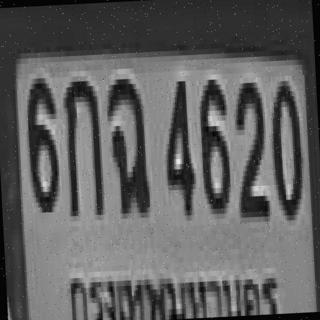A01: (62, 73, 103, 214)
A09: (105, 70, 148, 212)
N00: (268, 73, 302, 214)
N02: (232, 74, 267, 210)
N04: (160, 76, 194, 211)
N06: (24, 73, 59, 208), (196, 72, 230, 207)
